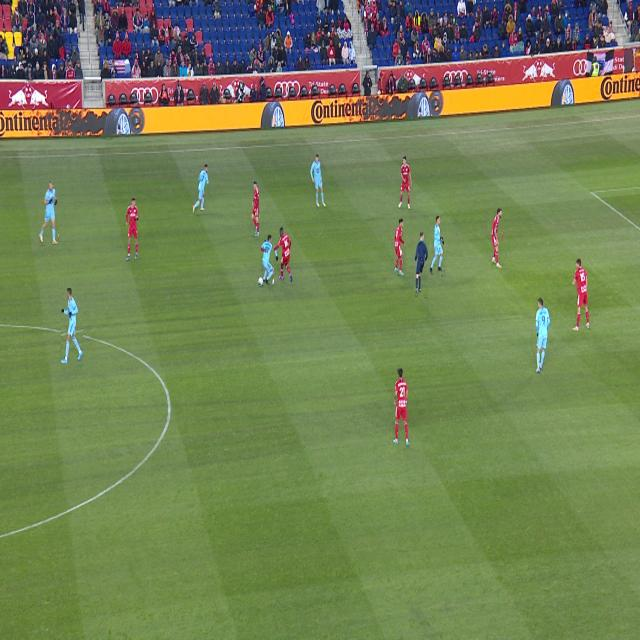football: (259, 277, 263, 285)
player: (61, 289, 83, 364), (393, 368, 410, 446), (572, 259, 589, 331), (271, 227, 292, 282), (40, 181, 58, 245), (536, 298, 550, 373), (125, 198, 139, 261), (310, 154, 326, 207), (192, 164, 209, 213), (430, 216, 444, 275), (398, 156, 412, 209), (394, 219, 406, 275), (262, 234, 274, 284), (492, 209, 502, 268), (252, 181, 259, 236), (274, 249, 278, 261)
referee: (414, 233, 428, 297)
